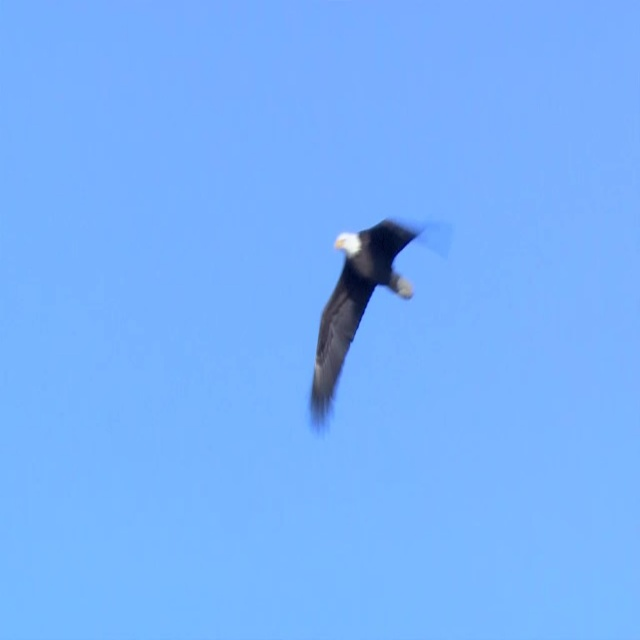Eagle: (301, 219, 439, 427)
